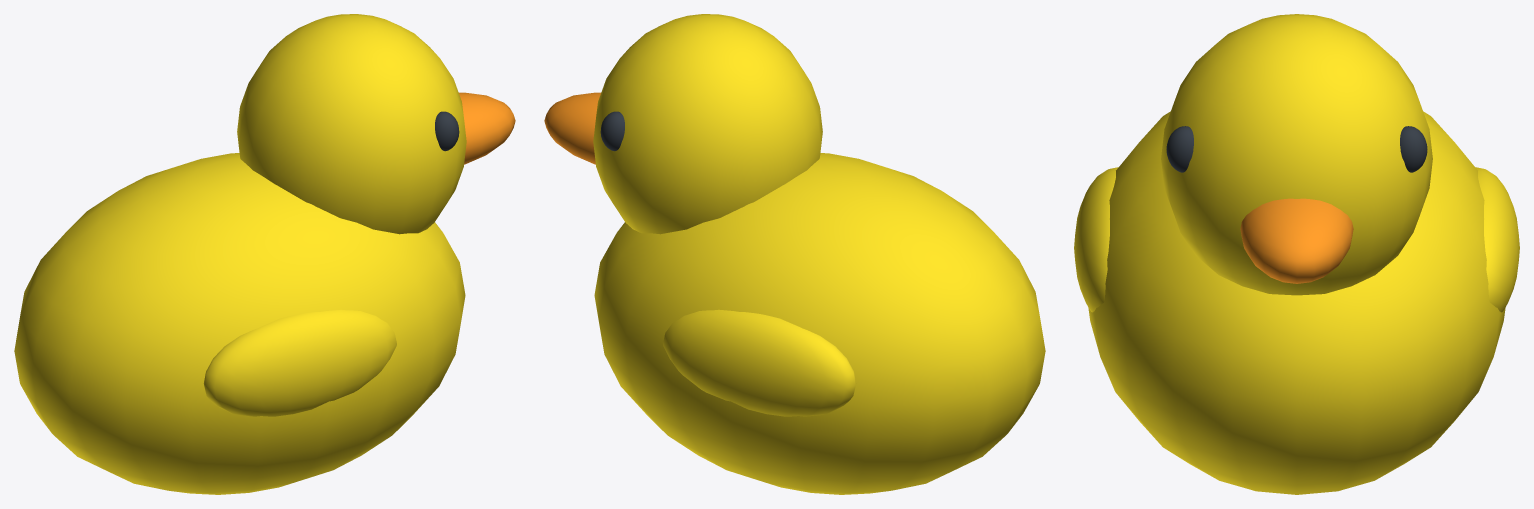
3 renders of one model, left to right at view 1: azimuth 30°, elevation 25°; view 2: azimuth 150°, elevation 25°; view 3: azimuth 270°, elevation 25°, orthographic. The views are drawn at different scales.
Parts seen in each view (by area): view 1: Duck Body, Duck Head, Duck Wing Left, Duck Beak, Duck Eye Left; view 2: Duck Body, Duck Head, Duck Wing Right, Duck Beak, Duck Eye Right; view 3: Duck Body, Duck Head, Duck Beak, Duck Wing Left, Duck Wing Right, Duck Eye Left, Duck Eye Right.
Part boxes in pixels (bbox=[...]): Duck Body: bbox=[14, 153, 465, 494]; Duck Head: bbox=[237, 14, 466, 234]; Duck Wing Left: bbox=[203, 309, 396, 416]; Duck Beak: bbox=[459, 92, 515, 164]; Duck Eye Left: bbox=[435, 111, 459, 151]; Duck Body: bbox=[594, 153, 1045, 494]; Duck Head: bbox=[593, 14, 822, 234]; Duck Wing Right: bbox=[663, 309, 856, 416]; Duck Beak: bbox=[544, 92, 600, 164]; Duck Eye Right: bbox=[600, 111, 624, 151]; Duck Body: bbox=[1088, 111, 1505, 494]; Duck Head: bbox=[1161, 14, 1432, 295]; Duck Beak: bbox=[1240, 198, 1353, 283]; Duck Wing Left: bbox=[1074, 167, 1118, 312]; Duck Wing Right: bbox=[1475, 167, 1519, 312]; Duck Eye Left: bbox=[1166, 126, 1193, 172]; Duck Eye Right: bbox=[1400, 126, 1427, 172].
Size of the model in its own units: 1.2 by 1.01 by 0.82.
